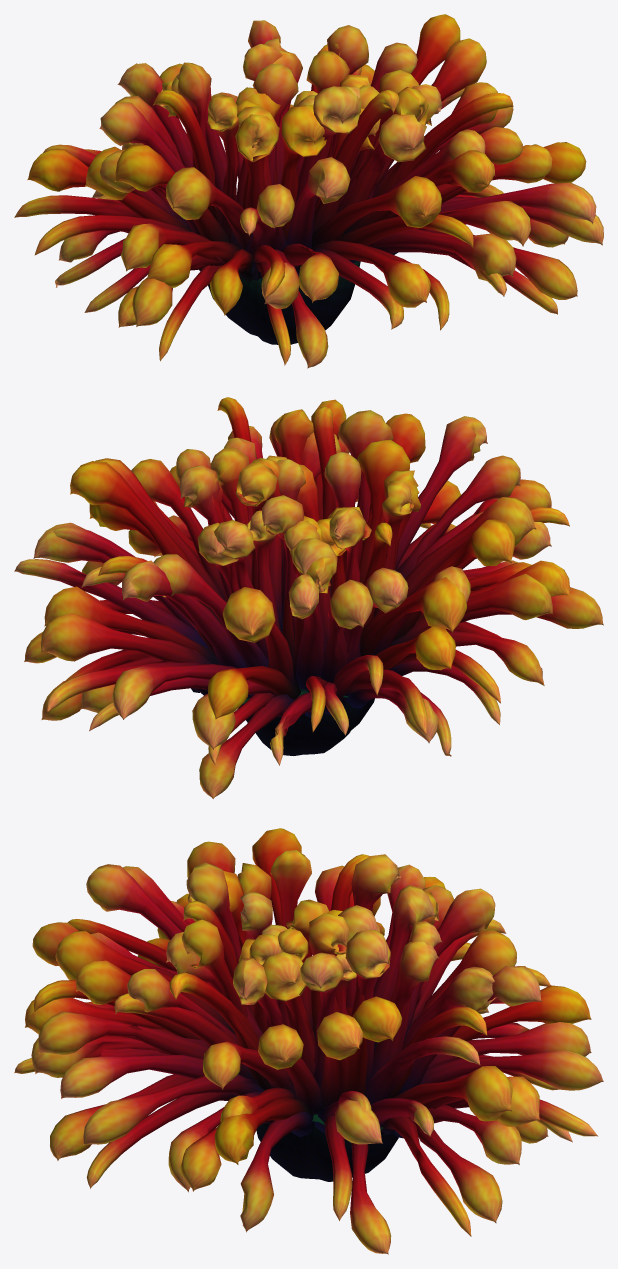
File: reef-anemone-sunburst-bta.glb
3 renders of one model, top to bottom at view 1: azimuth 30°, elevation 25°; view 2: azimuth 150°, elevation 25°; view 3: azimuth 270°, elevation 25°, orthographic. The views are drawn at different scales.
Visible parts, largest first — view 1: Reef_Anemone_Sunburst_BTA; view 2: Reef_Anemone_Sunburst_BTA; view 3: Reef_Anemone_Sunburst_BTA.
Boxes of the visible parts, <box> form: Reef_Anemone_Sunburst_BTA: <box>14,14,603,368</box>; Reef_Anemone_Sunburst_BTA: <box>14,397,603,798</box>; Reef_Anemone_Sunburst_BTA: <box>14,828,603,1254</box>.
Size of the model in its own units: 0.2357 by 0.1344 by 0.2397.
Materials: 2 (2 with a texture image).
